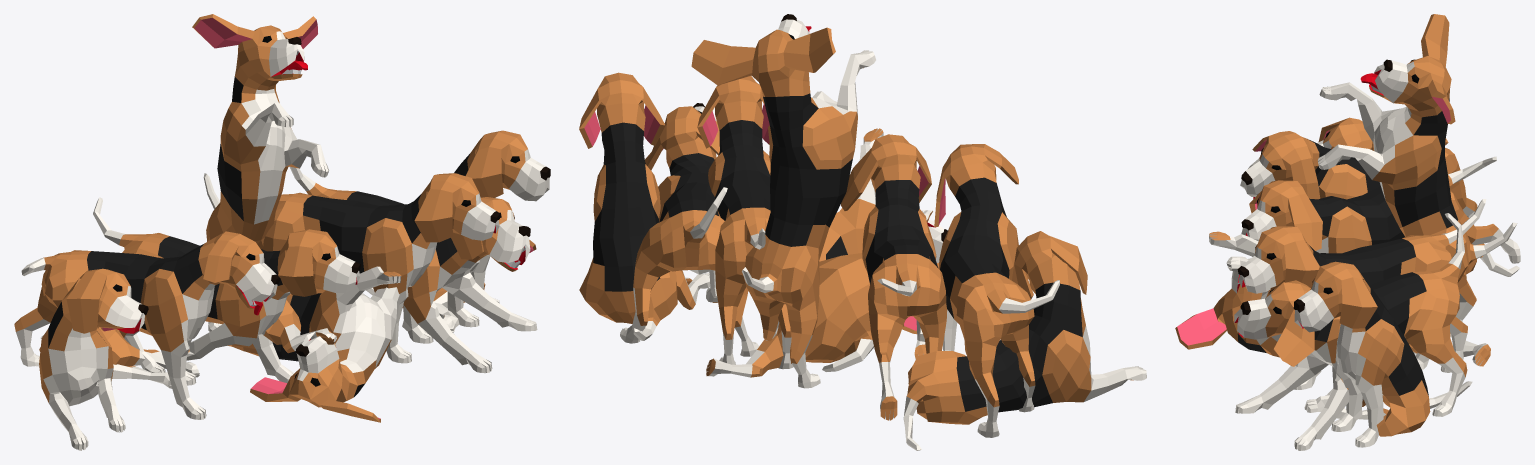
The picture shows the model from 3 angles, left to right: view 1: azimuth 30°, elevation 25°; view 2: azimuth 150°, elevation 25°; view 3: azimuth 270°, elevation 25°; orthographic projection. The views are drawn at different scales.
Parts seen in each view (by area): view 1: _gltfNode_47, _gltfNode_65, _gltfNode_2, _gltfNode_28, _gltfNode_10, _gltfNode_1, _gltfNode_20, _gltfNode_11, _gltfNode_37, _gltfNode_29, _gltfNode_46, _gltfNode_19 (+11 smaller); view 2: _gltfNode_2, _gltfNode_20, _gltfNode_47, _gltfNode_29, _gltfNode_11, _gltfNode_38, _gltfNode_0, _gltfNode_56, _gltfNode_54, _gltfNode_65, _gltfNode_27, _gltfNode_45 (+12 smaller); view 3: _gltfNode_2, _gltfNode_38, _gltfNode_56, _gltfNode_37, _gltfNode_1, _gltfNode_55, _gltfNode_20, _gltfNode_47, _gltfNode_65, _gltfNode_0, _gltfNode_18, _gltfNode_63 (+11 smaller).
Boxes of the visible parts, x1,y1,x2,y2 form: _gltfNode_47: (14, 231, 263, 351); _gltfNode_65: (262, 173, 478, 293); _gltfNode_2: (192, 14, 316, 248); _gltfNode_28: (41, 286, 199, 450); _gltfNode_10: (212, 266, 401, 381); _gltfNode_1: (203, 31, 329, 331); _gltfNode_20: (119, 229, 336, 352); _gltfNode_11: (227, 271, 401, 422); _gltfNode_37: (289, 166, 537, 373); _gltfNode_29: (39, 268, 159, 402); _gltfNode_46: (16, 253, 277, 419); _gltfNode_19: (93, 197, 360, 382); _gltfNode_2: (691, 27, 863, 363); _gltfNode_20: (841, 134, 947, 420); _gltfNode_47: (934, 144, 1035, 407); _gltfNode_29: (906, 231, 1133, 424); _gltfNode_11: (706, 128, 938, 377); _gltfNode_38: (633, 106, 748, 327); _gltfNode_0: (763, 93, 852, 246); _gltfNode_56: (579, 72, 695, 325); _gltfNode_54: (593, 122, 660, 291); _gltfNode_65: (697, 76, 791, 339); _gltfNode_27: (956, 282, 1082, 412); _gltfNode_45: (940, 177, 1009, 318); _gltfNode_2: (1369, 14, 1476, 306); _gltfNode_38: (1242, 263, 1467, 389); _gltfNode_56: (1310, 261, 1430, 436); _gltfNode_37: (1234, 213, 1465, 450); _gltfNode_1: (1318, 60, 1517, 336); _gltfNode_55: (1294, 281, 1472, 447); _gltfNode_20: (1249, 174, 1498, 253); _gltfNode_47: (1252, 131, 1477, 211); _gltfNode_65: (1254, 226, 1467, 332); _gltfNode_0: (1394, 98, 1457, 228); _gltfNode_18: (1309, 186, 1404, 244); _gltfNode_63: (1309, 238, 1415, 285).
Bounding box in the file's own units: 4.06 × 2.62 × 2.58.
